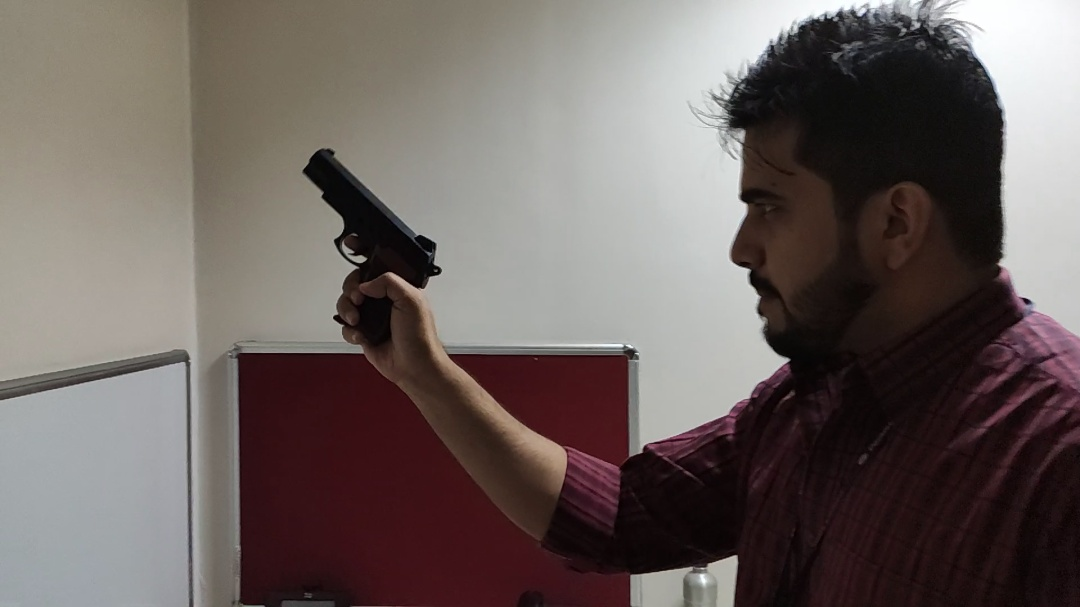gun: (299, 146, 445, 350)
